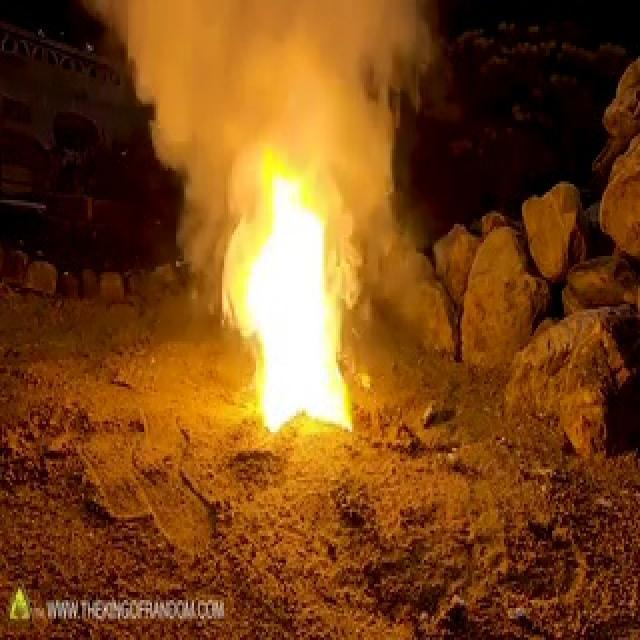Fire: (263, 232, 399, 411)
